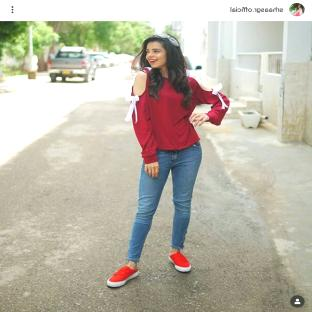Human: (108, 33, 230, 287)
